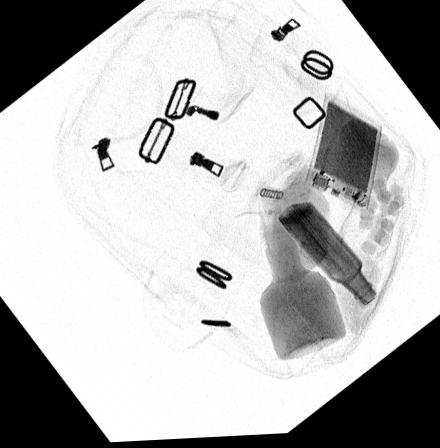Powerbank: (303, 96, 383, 218)
